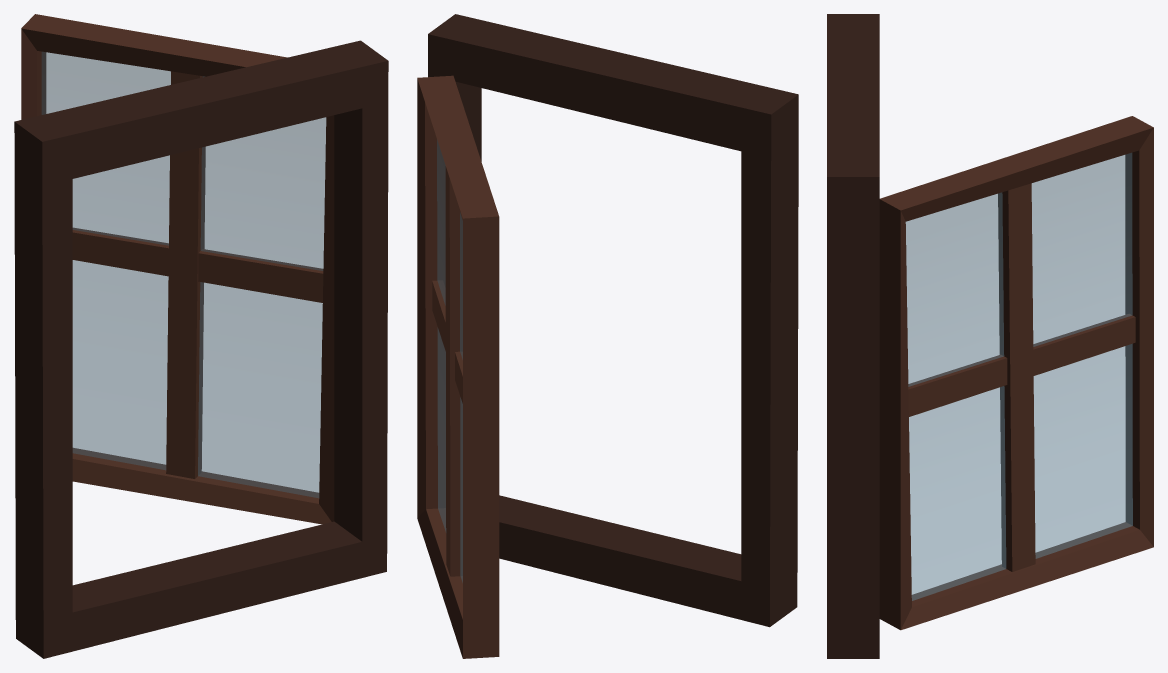
The model's file is Window 2x2 Open v2.glb.
The picture shows the model from 3 angles, left to right: view 1: azimuth 30°, elevation 25°; view 2: azimuth 150°, elevation 25°; view 3: azimuth 270°, elevation 25°; orthographic projection. The views are drawn at different scales.
Visible parts, largest first — view 1: Window 2x2 Open v2; view 2: Window 2x2 Open v2; view 3: Window 2x2 Open v2.
Boxes of the visible parts, x1,y1,x2,y2 form: Window 2x2 Open v2: [14, 14, 388, 658]; Window 2x2 Open v2: [417, 14, 798, 658]; Window 2x2 Open v2: [827, 14, 1153, 658].
Bounding box in the file's own units: 1.15 × 1.65 × 0.997.
2 materials, 2 textured.
